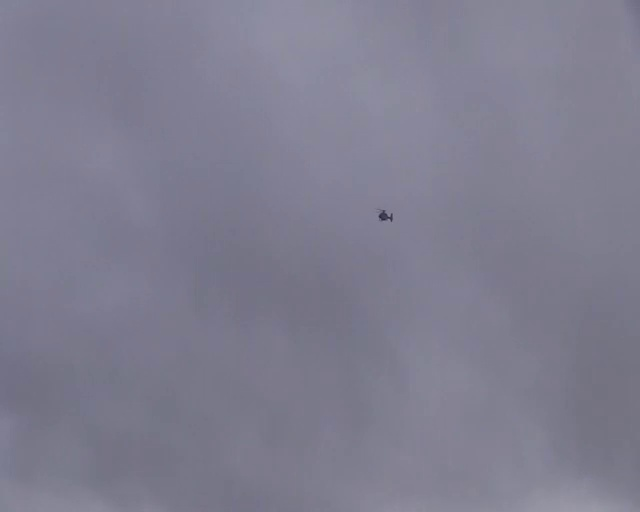HELICOPTER: (376, 207, 393, 222)
